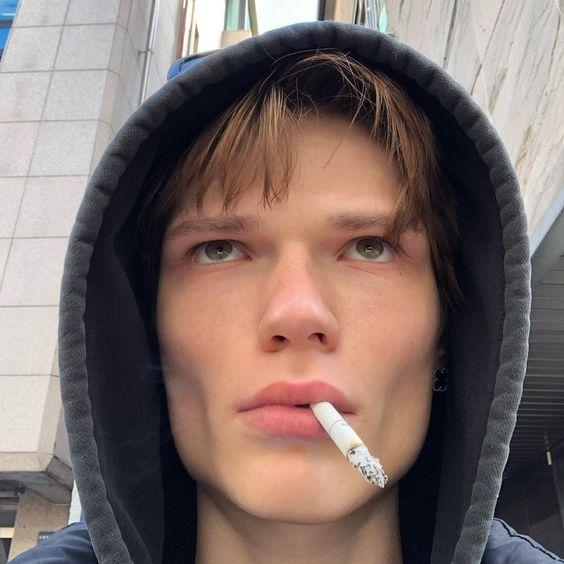cigarette: (309, 401, 389, 488)
